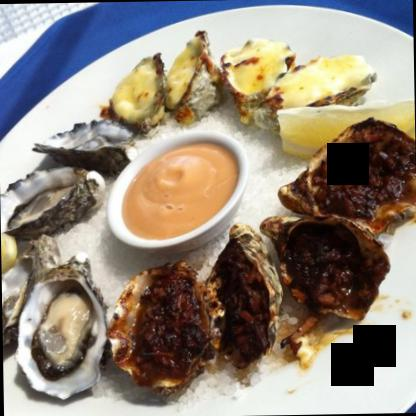oyster: (10, 254, 108, 404), (0, 165, 104, 241), (46, 114, 129, 168)
